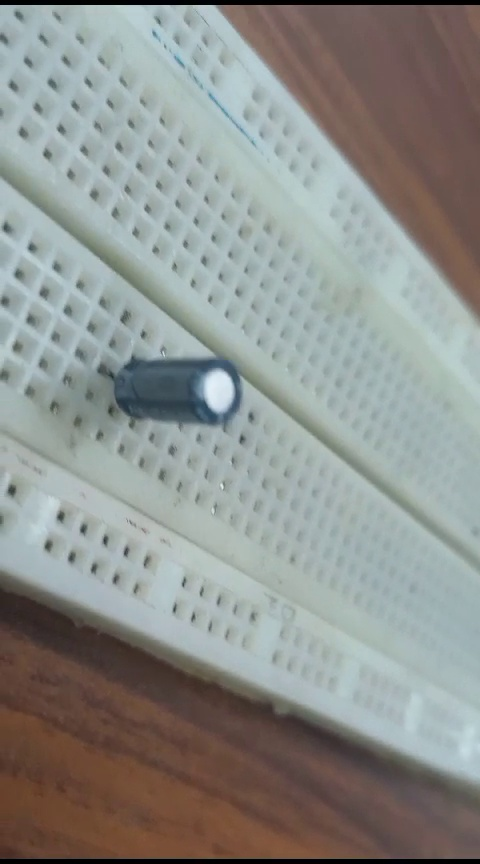capacitor: (92, 341, 252, 445)
